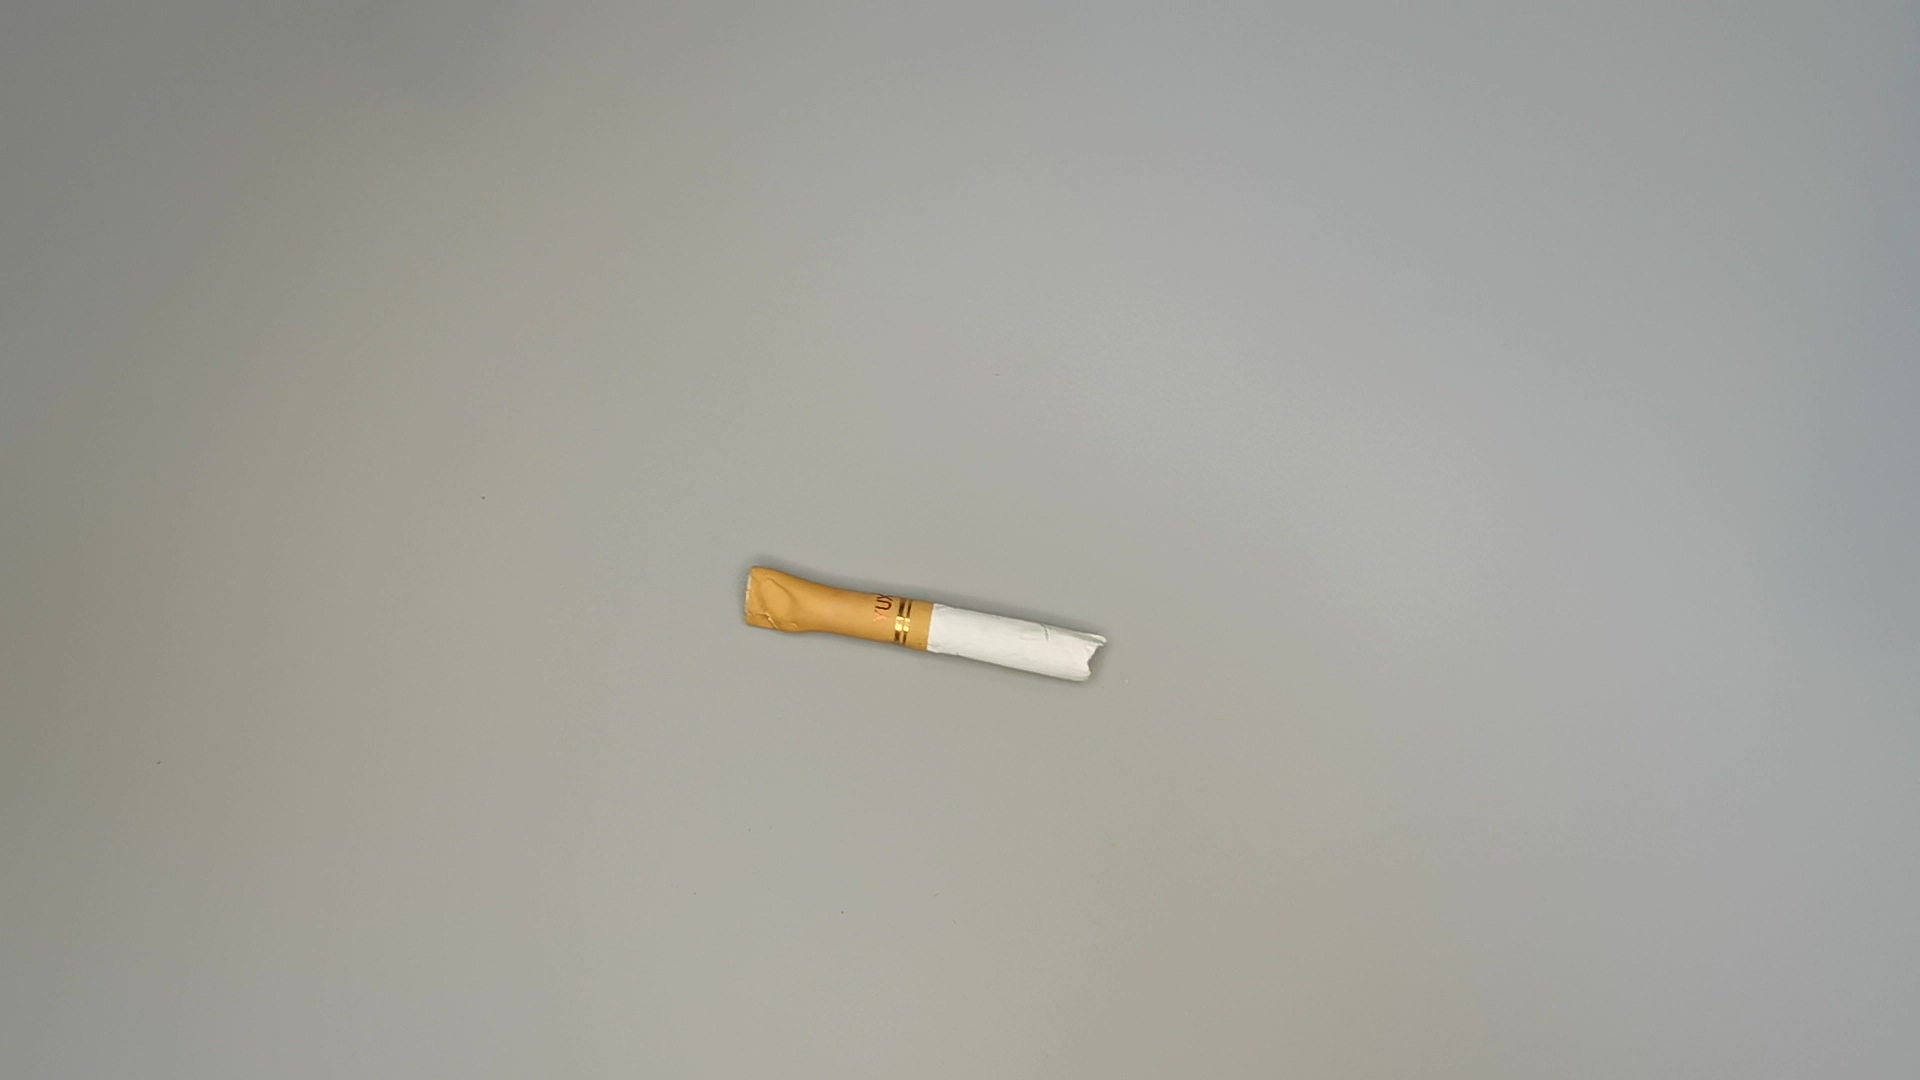cigarette: (735, 553, 1117, 700)
